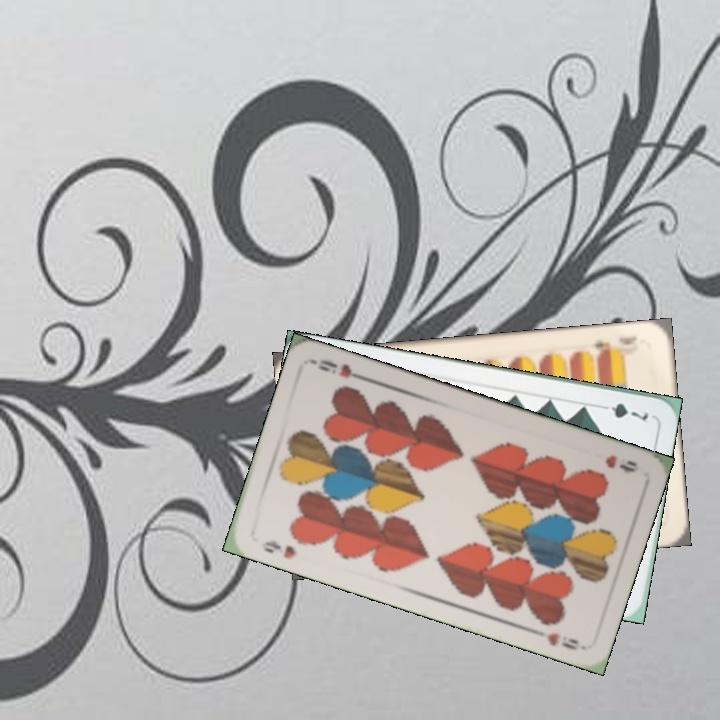E10: (590, 333, 640, 358)
G7: (594, 399, 651, 424)
H9: (257, 536, 299, 562), (601, 450, 641, 476)
